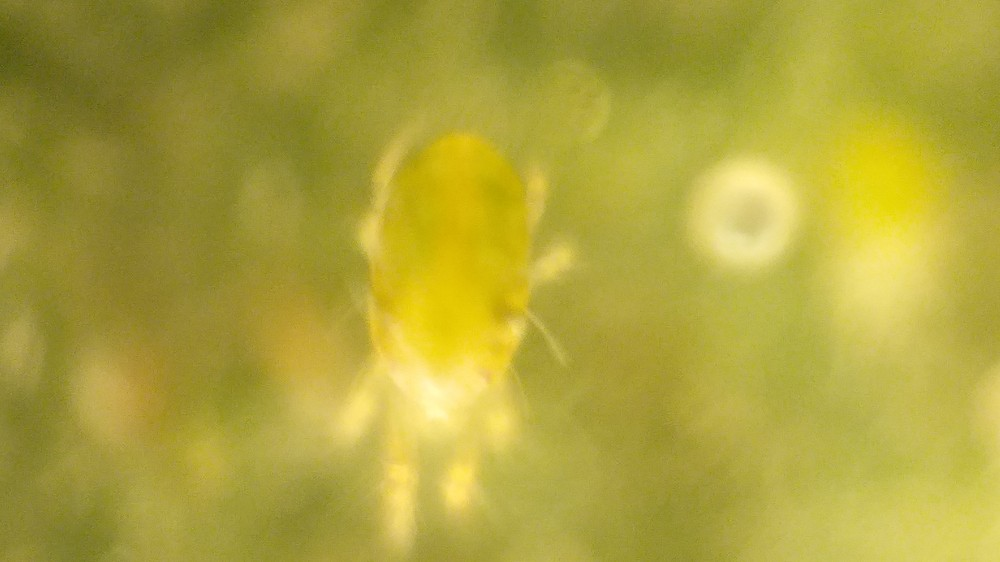Aracnido Rojo: (296, 119, 587, 549)
